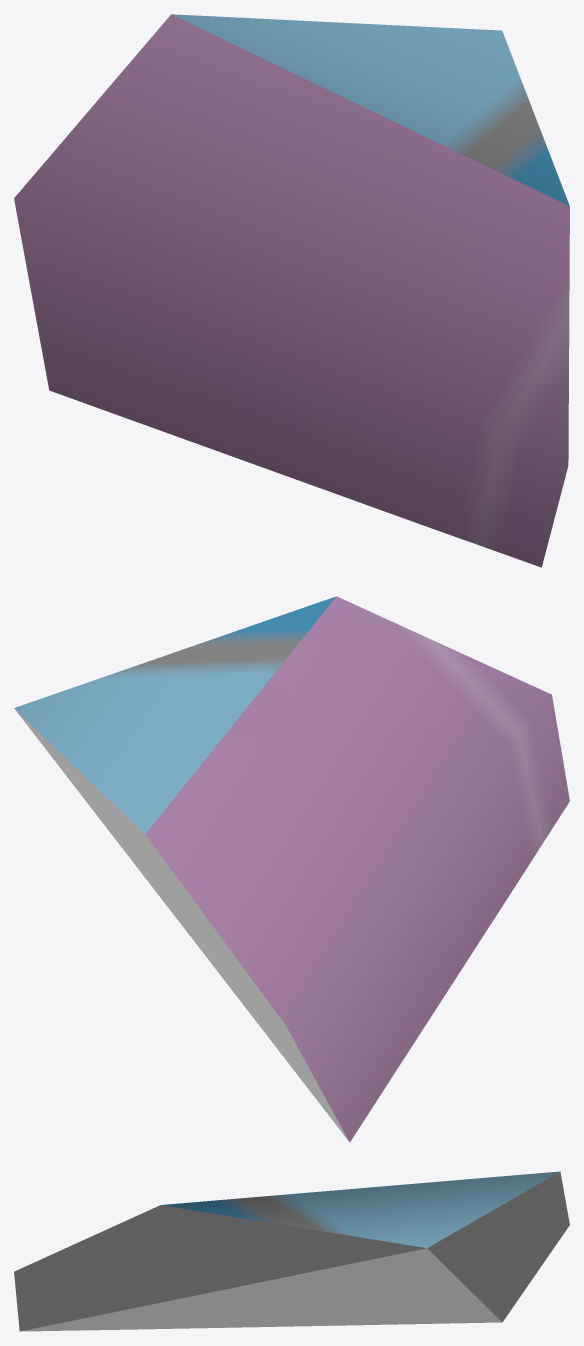
Rendered from RoundVase_SHAT_cell_017.fbx.
The picture shows the model from 3 angles, top to bottom: view 1: azimuth 30°, elevation 25°; view 2: azimuth 150°, elevation 25°; view 3: azimuth 270°, elevation 25°; orthographic projection. The views are drawn at different scales.
Visible parts, largest first — view 1: RoundVase_SHAT_cell_017; view 2: RoundVase_SHAT_cell_017; view 3: RoundVase_SHAT_cell_017.
Part boxes in pixels (left/top/right/bottom): RoundVase_SHAT_cell_017: left=14, top=14, right=569, bottom=567; RoundVase_SHAT_cell_017: left=14, top=596, right=569, bottom=1142; RoundVase_SHAT_cell_017: left=14, top=1171, right=569, bottom=1331.
Bounding box in the file's own units: 0.0479 × 0.0351 × 0.0862.
2 materials, 1 textured.
